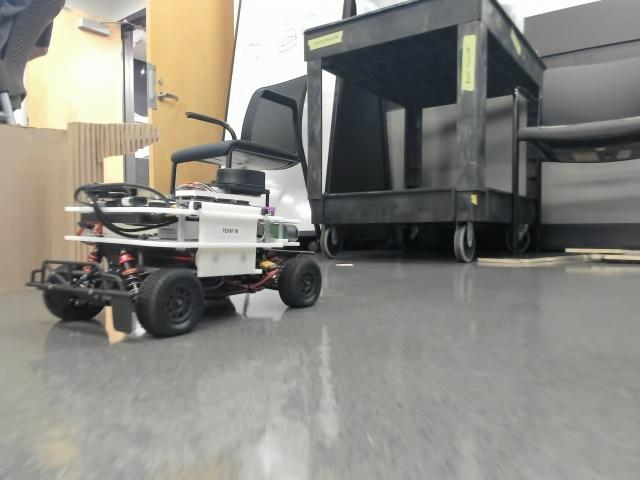Car: (26, 170, 321, 340)
